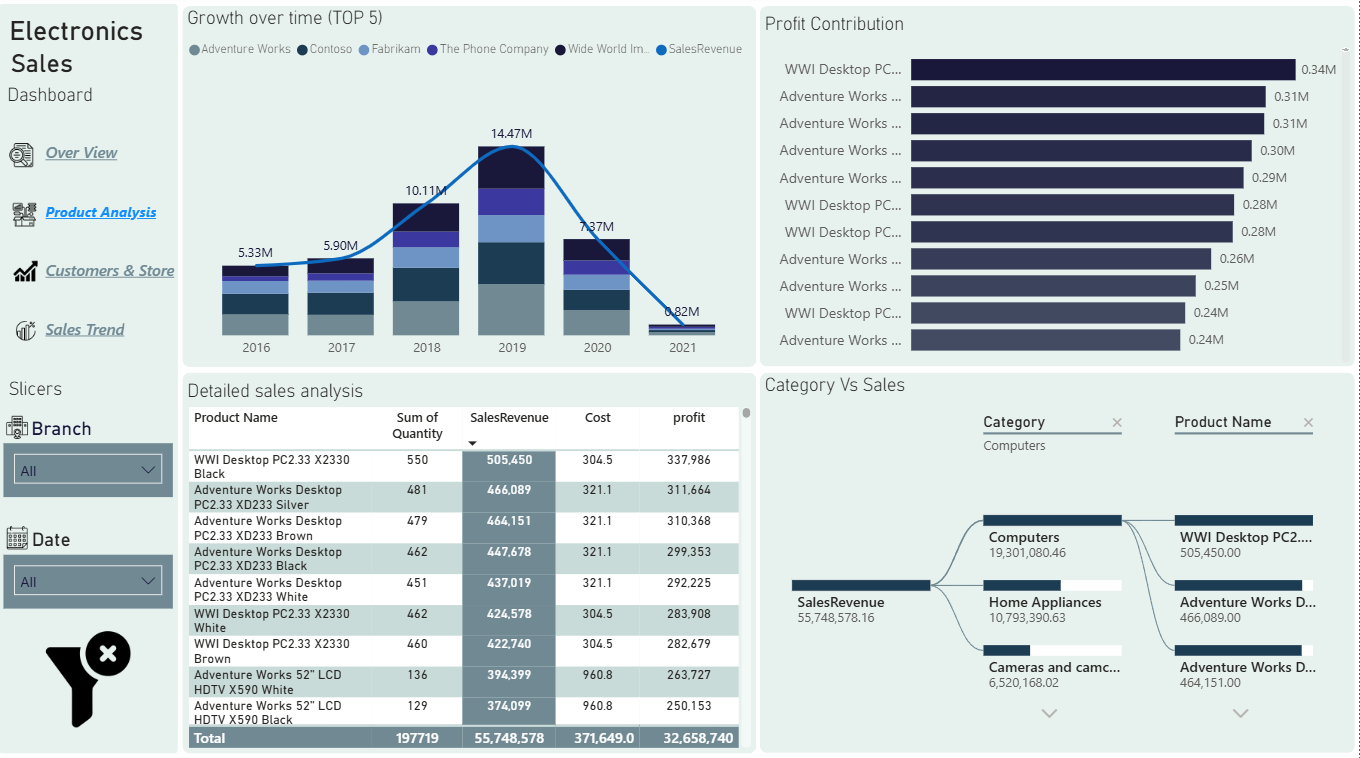

The page's visual inventory and layout, read from the dashboard file:
{"tool":"powerbi","page":{"name":"Product Analysis","canvas":[1280,720],"ordinal":1},"visuals":[{"type":"shape","box":[0,7.3,168.3,705.3],"z":0},{"type":"shape","box":[716.1,354.5,560,358.1],"z":1000},{"type":"shape","box":[172.4,354.2,540.2,358.4],"z":2000},{"type":"slicer","fields":{"Values":["Stores.State"]},"box":[4.4,420.3,159,51.1],"z":3000},{"type":"card","fields":{"Values":["Title.Branch"]},"box":[20.4,393.7,75.6,26.7],"z":4000},{"type":"image","box":[0.4,389.2,34,32],"z":5000},{"type":"slicer","fields":{"Values":["Sales.Order Date.Variation.Date Hierarchy.Year","Sales.Order Date.Variation.Date Hierarchy.Month"]},"box":[4.4,525.5,159,51],"z":6000},{"type":"image","box":[0.4,493.5,34,32],"z":7000},{"type":"card","fields":{"Values":["Title.Date"]},"box":[23.4,493.5,50,36],"z":8000},{"type":"card","fields":{"Values":["Title.Dashboard"]},"box":[0,58.9,95.6,65.6],"z":9000},{"type":"card","fields":{"Values":["Title.Electronics"]},"box":[0,8.9,144.4,43.3],"z":10000},{"type":"card","fields":{"Values":["Title.Sales"]},"box":[0,41.1,80,41.1],"z":11000},{"type":"card","fields":{"Values":["Title.Slicers"]},"box":[0,348.7,67.8,40],"z":12000},{"type":"image","box":[33.3,592.2,102.2,101.1],"z":13000},{"type":"pageNavigator","box":[43.6,124.7,124.7,210.9],"z":14000},{"type":"image","box":[4.3,133.3,33,33],"z":15000},{"type":"image","box":[7.8,188.9,33,33],"z":16000},{"type":"image","box":[7.9,242,33,33],"z":17000},{"type":"image","box":[7.9,297.6,33,33],"z":18000},{"type":"shape","box":[172.4,9.3,540.2,339.7],"z":19000},{"type":"shape","box":[716.1,9.4,560,339.3],"z":20000},{"type":"tableEx","title":"Detailed sales analysis","fields":{"Values":["Products.Product Name","Sum(Sales.Quantity)","measure.SalesRevenue","measure.Cost","measure.profit"]},"box":[172.4,360.5,540.2,352.1],"z":21000},{"type":"barChart","title":"Profit Contribution","fields":{"Category":["Products.Product Name"],"Y":["measure.profit"]},"box":[715.7,14.5,559.9,334.5],"z":22000},{"type":"decompositionTreeVisual","title":"Category Vs Sales","fields":{"Analyze":["measure.SalesRevenue"],"ExplainBy":["Products.Category","Products.Product Name"]},"box":[715.7,354.2,559.9,358.4],"z":23000},{"type":"lineStackedColumnComboChart","title":"Growth over time (TOP 5)","fields":{"Category":["Sales.Order Date.Variation.Date Hierarchy.Year"],"Series":["Products.Brand"],"Y":["measure.SalesRevenue"],"Y2":["measure.SalesRevenue"]},"box":[172,9.7,539.8,339.8],"z":24000}]}

Visuals, with their boxes in screenshot pixels (x1, y1, x2, y2), scaled from the page's 1280x720 canvas onto the 1360x758 screenshot:
shape: rect(0, 8, 179, 750)
shape: rect(761, 373, 1356, 750)
shape: rect(183, 373, 757, 750)
slicer - Stores.State: rect(5, 442, 174, 496)
card - Title.Branch: rect(22, 414, 102, 443)
image: rect(0, 410, 37, 443)
slicer - Sales.Order Date.Variation.Date Hierarchy.Year x Sales.Order Date.Variation.Date Hierarchy.Month: rect(5, 553, 174, 607)
image: rect(0, 520, 37, 553)
card - Title.Date: rect(25, 520, 78, 557)
card - Title.Dashboard: rect(0, 62, 102, 131)
card - Title.Electronics: rect(0, 9, 153, 55)
card - Title.Sales: rect(0, 43, 85, 87)
card - Title.Slicers: rect(0, 367, 72, 409)
image: rect(35, 623, 144, 730)
pageNavigator: rect(46, 131, 179, 353)
image: rect(5, 140, 40, 175)
image: rect(8, 199, 43, 234)
image: rect(8, 255, 43, 290)
image: rect(8, 313, 43, 348)
shape: rect(183, 10, 757, 367)
shape: rect(761, 10, 1356, 367)
"Detailed sales analysis" tableEx: rect(183, 380, 757, 750)
"Profit Contribution" barChart: rect(760, 15, 1355, 367)
"Category Vs Sales" decompositionTreeVisual: rect(760, 373, 1355, 750)
"Growth over time (TOP 5)" lineStackedColumnComboChart: rect(183, 10, 756, 368)
